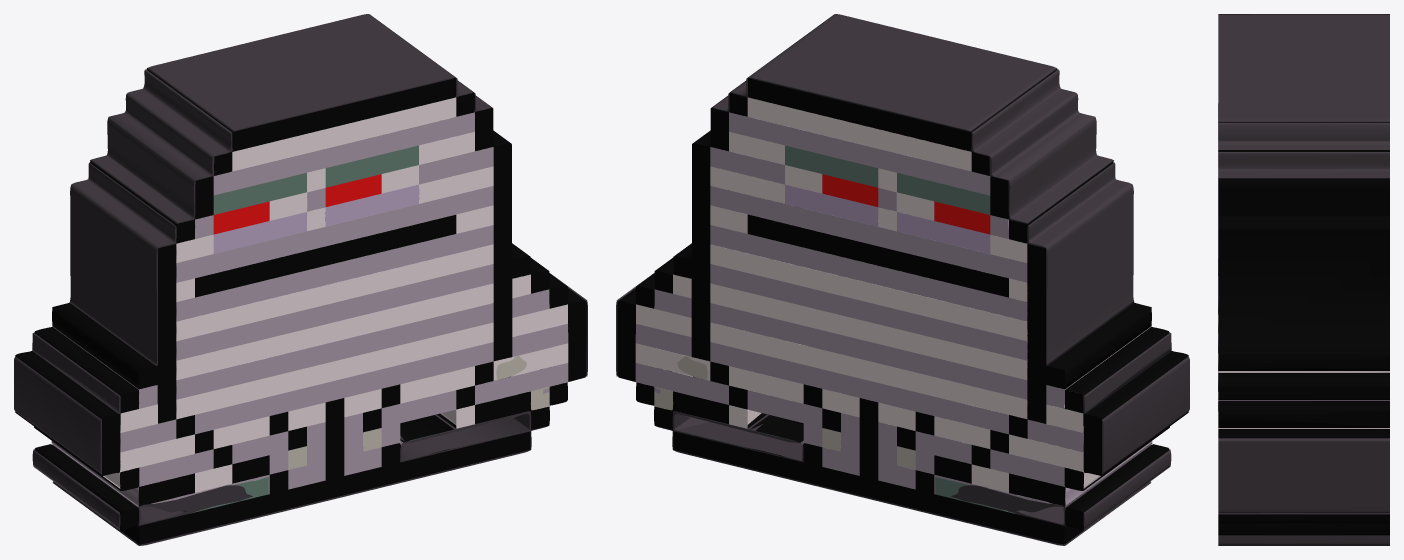
Rendered from Toadz_2454.glb.
3 renders of one model, left to right at view 1: azimuth 30°, elevation 25°; view 2: azimuth 150°, elevation 25°; view 3: azimuth 270°, elevation 25°, orthographic.
Visible parts, largest first — view 1: Curve; view 2: Curve; view 3: Curve.
Boxes of the visible parts, x1=… form: Curve: x1=14, y1=14, x2=587, y2=545; Curve: x1=616, y1=14, x2=1189, y2=545; Curve: x1=1218, y1=14, x2=1389, y2=545.
Size of the model in its own units: 3.25 by 2.51 by 1.
